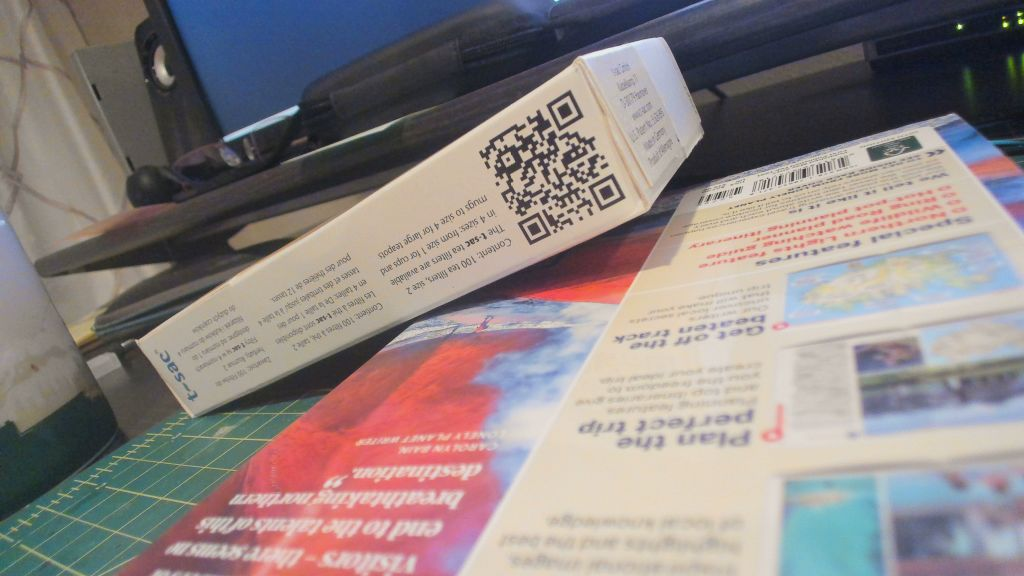QR_CODE: (466, 79, 646, 250)
